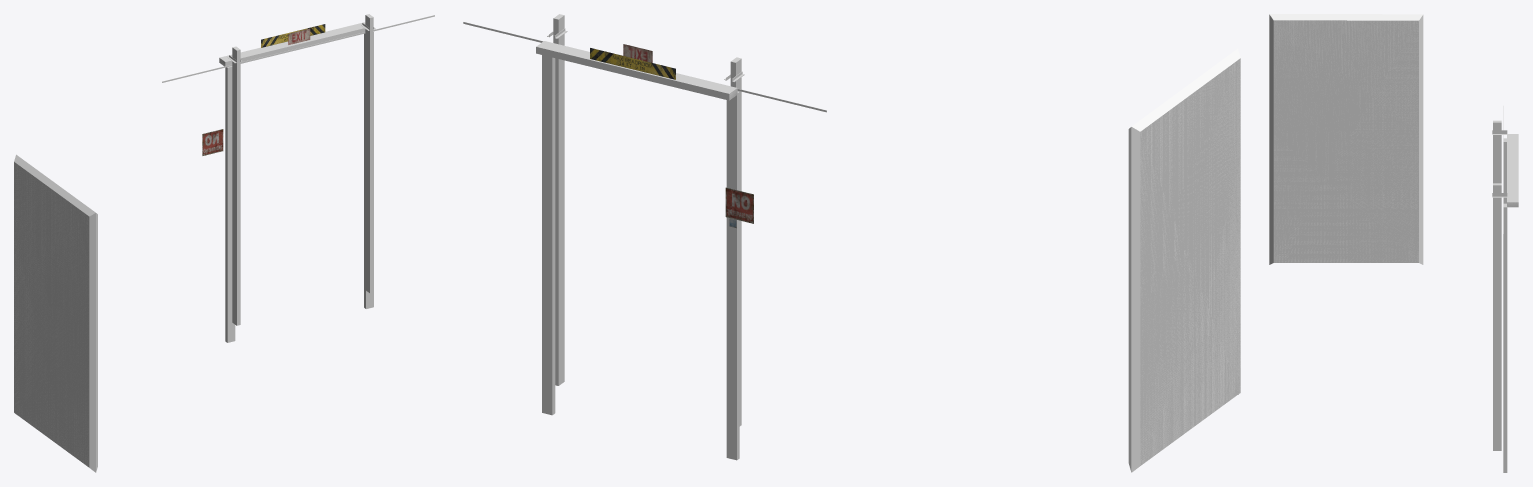
The model's file is ind_bld_01_b.dae.
3 views of the same model, side by side, from view 1: azimuth 30°, elevation 25°; view 2: azimuth 150°, elevation 25°; view 3: azimuth 270°, elevation 25° (orthographic). The views are drawn at different scales.
Visible parts, largest first — view 1: ind_bld_01_b_a1500, Colmesh-1, ind_bld_01_b_a500; view 2: ind_bld_01_b_a1500, Colmesh-1, ind_bld_01_b_a500; view 3: ind_bld_01_b_a1500, ind_bld_01_b_a500, Colmesh-1.
Boxes of the visible parts, x1,y1,x2,y2 form: ind_bld_01_b_a1500: (14, 14, 434, 467); Colmesh-1: (14, 154, 97, 472); ind_bld_01_b_a500: (219, 14, 373, 342); ind_bld_01_b_a1500: (463, 14, 1240, 465); Colmesh-1: (1128, 48, 1240, 472); ind_bld_01_b_a500: (536, 14, 741, 459); ind_bld_01_b_a1500: (1273, 20, 1518, 472); ind_bld_01_b_a500: (1273, 20, 1518, 450); Colmesh-1: (1269, 14, 1423, 264).
Size of the model in its own units: 14.38 by 6.93 by 8.74.
